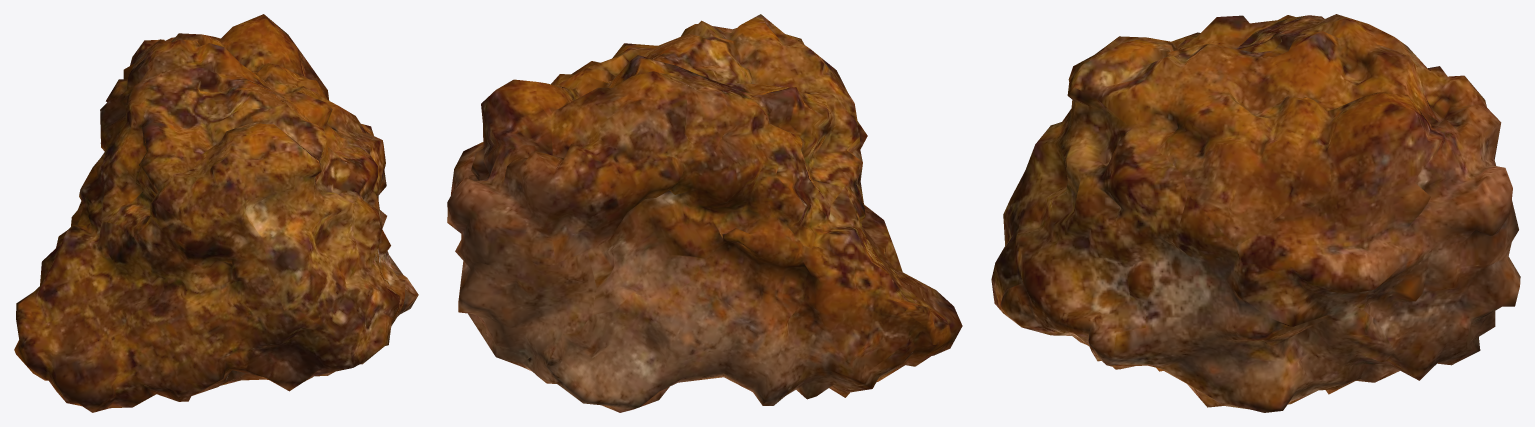
Rendered from rock1.glb.
The picture shows the model from 3 angles, left to right: view 1: azimuth 30°, elevation 25°; view 2: azimuth 150°, elevation 25°; view 3: azimuth 270°, elevation 25°; orthographic projection. The views are drawn at different scales.
Visible parts, largest first — view 1: pbbaG_LOD0_TIER2_000_MatID_1_0; view 2: pbbaG_LOD0_TIER2_000_MatID_1_0; view 3: pbbaG_LOD0_TIER2_000_MatID_1_0.
Boxes of the visible parts, x1=… form: pbbaG_LOD0_TIER2_000_MatID_1_0: x1=14, y1=14, x2=418, y2=412; pbbaG_LOD0_TIER2_000_MatID_1_0: x1=447, y1=14, x2=962, y2=412; pbbaG_LOD0_TIER2_000_MatID_1_0: x1=991, y1=14, x2=1520, y2=412.
Size of the model in its own units: 0.37 by 0.2588 by 0.3622.
1 material, 1 textured.
